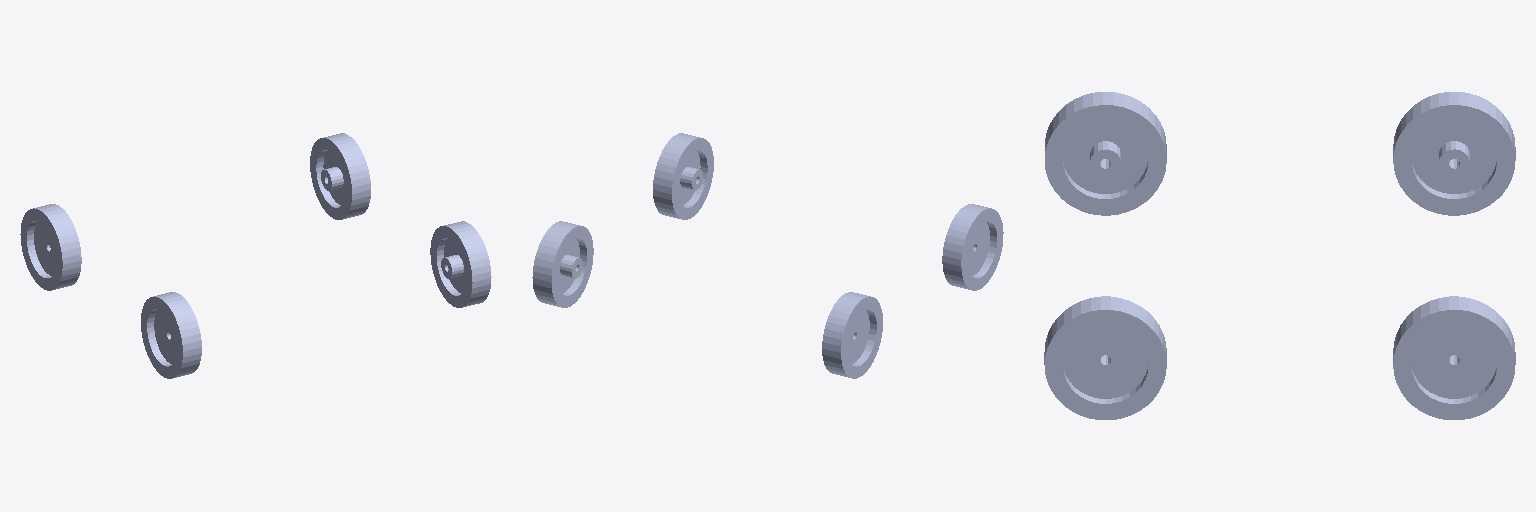
The robot description file, URDF, robot "car_simulation":
<?xml version="1.0" encoding="utf-8"?>
<!-- This URDF was automatically created by SolidWorks to URDF Exporter! Originally created by [author] ([email redacted]) 
     Commit Version: 1.5.1-0-g916b5db  Build Version: 1.5.7152.31018
     For more information, please see http://wiki.ros.org/sw_urdf_exporter -->
<robot name="car_simulation">
  <gazebo>
    <plugin
      name="gazebo_ros_control"
      filename="libgazebo_ros_control.so">
      <robotNamespace>/</robotNamespace>
    </plugin>
  </gazebo>
  <gazebo>
    <plugin name="skid_steer_drive_controller" filename="libgazebo_ros_skid_steer_drive.so">
      <legacyMode>false</legacyMode>
      <alwaysOn>true</alwaysOn>
      <updateRate>100.0</updateRate>
      <robotNamespace>/</robotNamespace>
      <leftFrontJoint>LF_wheel</leftFrontJoint>
      <rightFrontJoint>RF_wheel</rightFrontJoint>
      <leftRearJoint>LB_wheel</leftRearJoint>
      <rightRearJoint>RB_wheel</rightRearJoint>
      <wheelSeparation>0.4</wheelSeparation>
      <wheelDiameter>0.215</wheelDiameter>
      <robotBaseFrame>base_link</robotBaseFrame>
      <torque>10</torque>
      <topicName>cmd_vel</topicName>
      <broadcastTF>false</broadcastTF>
    </plugin>
  </gazebo>
  <link name="dummy"></link>
  <joint name="dummy_joint" type="fixed">
    <parent link="dummy"/>
    <child link="base_link"/>
  </joint>
  <link
    name="base_link">
    <inertial>
      <origin
        xyz="-0.00074513 -0.11739 0.055785"
        rpy="0 0 0" />
      <mass
        value="8" />
      <inertia
        ixx="0.55567"
        ixy="-0.00039063"
        ixz="-0.0032652"
        iyy="0.57391"
        iyz="-0.019683"
        izz="0.61063" />
    </inertial>
    <visual>
      <origin
        xyz="0 0 0"
        rpy="0 0 0" />
      <geometry>
        <mesh
          filename="package://car_simulation/meshes/base_link.STL" />
      </geometry>
      <material
        name="">
        <color
          rgba="0.79216 0.81961 0.93333 1" />
      </material>
    </visual>
    <collision>
      <origin
        xyz="0 0 0"
        rpy="0 0 0" />
      <geometry>
        <mesh
          filename="package://car_simulation/meshes/base_link.STL" />
      </geometry>
    </collision>
  </link>
  <gazebo reference="LF_wheel">
    <material>Gazebo/Orange</material>
  </gazebo>
  <link
    name="LF_wheel">
    <inertial>
      <origin
        xyz="-0.032026 -1.3878E-17 -5.5511E-17"
        rpy="0 0 0" />
      <mass
        value="0.49554" />
      <inertia
        ixx="0.0018121"
        ixy="2.1263E-22"
        ixz="1.9263E-20"
        iyy="0.00096656"
        iyz="5.0211E-21"
        izz="0.00096656" />
    </inertial>
    <visual>
      <origin
        xyz="0 0 0"
        rpy="0 0 0" />
      <geometry>
        <mesh
          filename="package://car_simulation/meshes/LF_wheel.STL" />
      </geometry>
      <material
        name="">
        <color
          rgba="0.79216 0.81961 0.93333 1" />
      </material>
    </visual>
    <collision>
      <origin
        xyz="0 0 0"
        rpy="0 0 0" />
      <geometry>
        <mesh
          filename="package://car_simulation/meshes/LF_wheel.STL" />
      </geometry>
    </collision>
  </link>
  <joint
    name="LF_wheel_jnt"
    type="continuous">
    <origin
      xyz="-0.27192 0.1695 -0.1241"
      rpy="0 0 0" />
    <parent
      link="base_link" />
    <child
      link="LF_wheel" />
    <axis
      xyz="1 0 0" />
    <limit
      effort="0"
      velocity="35" />
  </joint>
  <gazebo reference="LB_wheel">
    <material>Gazebo/Orange</material>
  </gazebo>
  <link
    name="LB_wheel">
    <inertial>
      <origin
        xyz="-0.032026 2.7756E-17 2.7756E-17"
        rpy="0 0 0" />
      <mass
        value="0.49554" />
      <inertia
        ixx="0.0018121"
        ixy="2.1243E-20"
        ixz="3.9097E-21"
        iyy="0.00096656"
        iyz="9.7862E-20"
        izz="0.00096656" />
    </inertial>
    <visual>
      <origin
        xyz="0 0 0"
        rpy="0 0 0" />
      <geometry>
        <mesh
          filename="package://car_simulation/meshes/LB_wheel.STL" />
      </geometry>
      <material
        name="">
        <color
          rgba="0.79216 0.81961 0.93333 1" />
      </material>
    </visual>
    <collision>
      <origin
        xyz="0 0 0"
        rpy="0 0 0" />
      <geometry>
        <mesh
          filename="package://car_simulation/meshes/LB_wheel.STL" />
      </geometry>
    </collision>
  </link>
  <joint
    name="LB_wheel_jnt"
    type="continuous">
    <origin
      xyz="-0.27192 -0.2695 -0.1241"
      rpy="1.5708 0 0" />
    <parent
      link="base_link" />
    <child
      link="LB_wheel" />
    <axis
      xyz="1 0 0" />
    <limit
      effort="0"
      velocity="35" />
  </joint>
  <gazebo reference="RF_wheel">
    <material>Gazebo/Orange</material>
  </gazebo>
  <link
    name="RF_wheel">
    <inertial>
      <origin
        xyz="0.032026 6.9389E-17 0"
        rpy="0 0 0" />
      <mass
        value="0.49554" />
      <inertia
        ixx="0.0018121"
        ixy="1.1755E-35"
        ixz="2.5636E-20"
        iyy="0.00096656"
        iyz="3.8844E-35"
        izz="0.00096656" />
    </inertial>
    <visual>
      <origin
        xyz="0 0 0"
        rpy="0 0 0" />
      <geometry>
        <mesh
          filename="package://car_simulation/meshes/RF_wheel.STL" />
      </geometry>
      <material
        name="">
        <color
          rgba="0.79216 0.81961 0.93333 1" />
      </material>
    </visual>
    <collision>
      <origin
        xyz="0 0 0"
        rpy="0 0 0" />
      <geometry>
        <mesh
          filename="package://car_simulation/meshes/RF_wheel.STL" />
      </geometry>
    </collision>
  </link>
  <joint
    name="RF_wheel_jnt"
    type="continuous">
    <origin
      xyz="0.27208 0.1695 -0.1241"
      rpy="1.5708 0 0" />
    <parent
      link="base_link" />
    <child
      link="RF_wheel" />
    <axis
      xyz="-1 0 0" />
    <limit
      effort="0"
      velocity="35" />
  </joint>
  <gazebo reference="RB_wheel">
    <material>Gazebo/Orange</material>
  </gazebo>
  <link
    name="RB_wheel">
    <inertial>
      <origin
        xyz="0.032026 6.9389E-17 0"
        rpy="0 0 0" />
      <mass
        value="0.49554" />
      <inertia
        ixx="0.0018121"
        ixy="3.3987E-36"
        ixz="1.3212E-20"
        iyy="0.00096656"
        iyz="-4.9432E-36"
        izz="0.00096656" />
    </inertial>
    <visual>
      <origin
        xyz="0 0 0"
        rpy="0 0 0" />
      <geometry>
        <mesh
          filename="package://car_simulation/meshes/RB_wheel.STL" />
      </geometry>
      <material
        name="">
        <color
          rgba="0.79216 0.81961 0.93333 1" />
      </material>
    </visual>
    <collision>
      <origin
        xyz="0 0 0"
        rpy="0 0 0" />
      <geometry>
        <mesh
          filename="package://car_simulation/meshes/RB_wheel.STL" />
      </geometry>
    </collision>
  </link>
  <joint
    name="RB_wheel_jnt"
    type="continuous">
    <origin
      xyz="0.27208 -0.2695 -0.1241"
      rpy="1.5708 0 0" />
    <parent
      link="base_link" />
    <child
      link="RB_wheel" />
    <axis
      xyz="-1 0 0" />
    <limit
      effort="0"
      velocity="35" />
  </joint>
</robot>

--- What the picture shows (computed from the rendered views, not written in the file) ---
Views: 3 orthographic renders of the robot side by side, from view 1: azimuth 30°, elevation 25°; view 2: azimuth 150°, elevation 25°; view 3: azimuth 270°, elevation 25°.
Model car_simulation with 6 links and 5 joints (4 continuous, 1 fixed), rooted at dummy, posed every joint at zero.
Visible links, largest first — view 1: LB_wheel, RF_wheel, LF_wheel, RB_wheel; view 2: LB_wheel, LF_wheel, RB_wheel, RF_wheel; view 3: LF_wheel, RF_wheel, RB_wheel, LB_wheel.
Boxes of the visible links, x1,y1,x2,y2 form: LB_wheel: (141,292,201,378); RF_wheel: (310,133,370,219); LF_wheel: (20,204,81,290); RB_wheel: (430,221,491,307); LB_wheel: (942,204,1003,290); LF_wheel: (822,292,882,378); RB_wheel: (653,133,713,219); RF_wheel: (532,221,593,307); LF_wheel: (1393,92,1515,215); RF_wheel: (1393,296,1515,419); RB_wheel: (1044,296,1166,419); LB_wheel: (1045,92,1166,215).
Bounding box of the posed robot: 0.65 × 0.593 × 0.1539 m (x, y, z).
4 mesh visuals loaded from 5 distinct referenced files (4 binary STL); not drawn: 1 (reference not matched to a file when rendering).